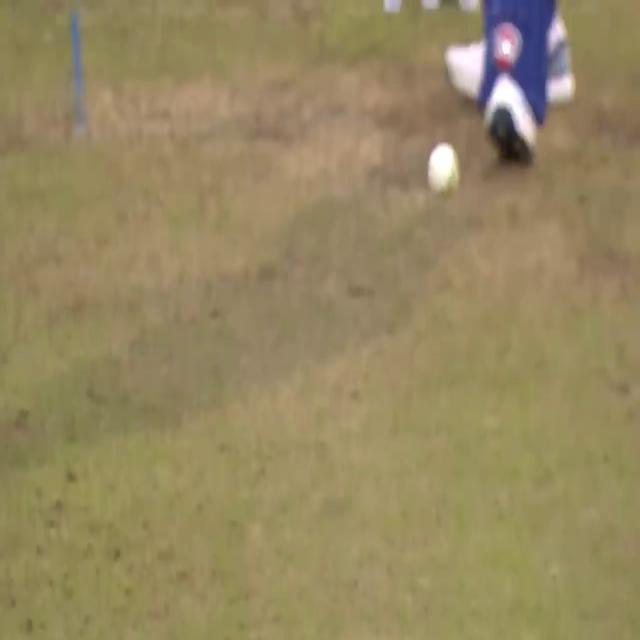ball: (427, 142, 461, 201)
